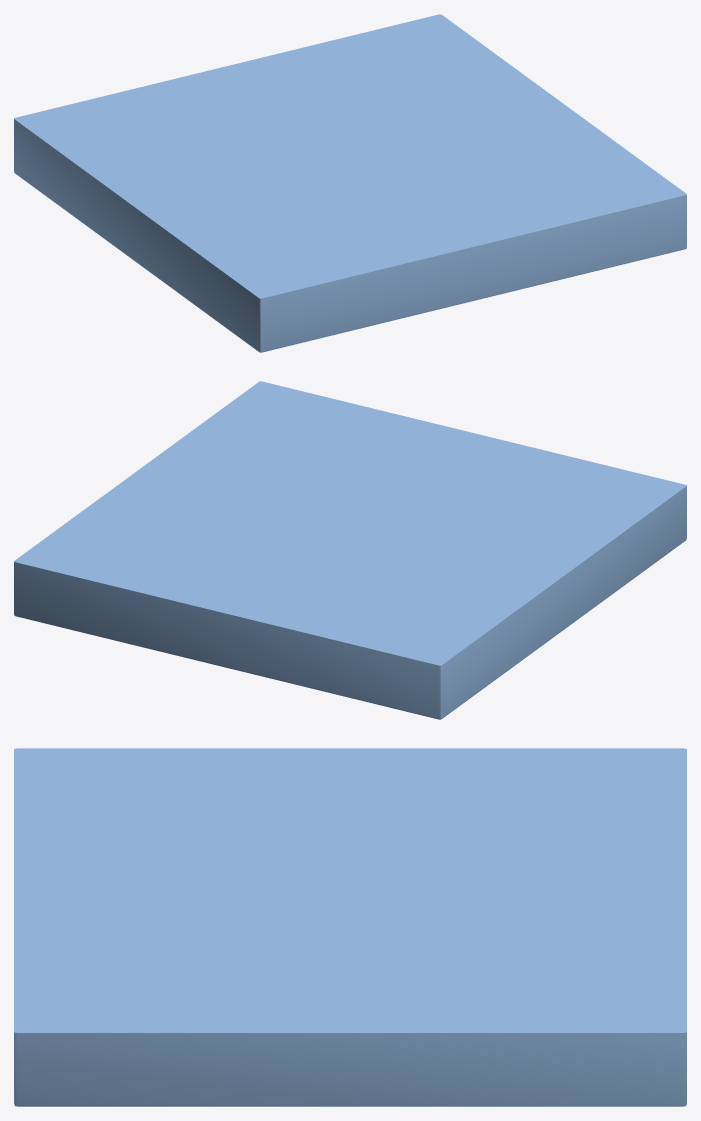
The picture shows the model from 3 angles, top to bottom: view 1: azimuth 30°, elevation 25°; view 2: azimuth 150°, elevation 25°; view 3: azimuth 270°, elevation 25°; orthographic projection. The views are drawn at different scales.
Parts seen in each view (by area): view 1: Box001; view 2: Box001; view 3: Box001.
Boxes of the visible parts, x1,y1,x2,y2 form: Box001: (14, 14, 686, 352); Box001: (14, 381, 686, 719); Box001: (14, 748, 686, 1106).
Size of the model in its own units: 0.56 by 0.071 by 0.56.
